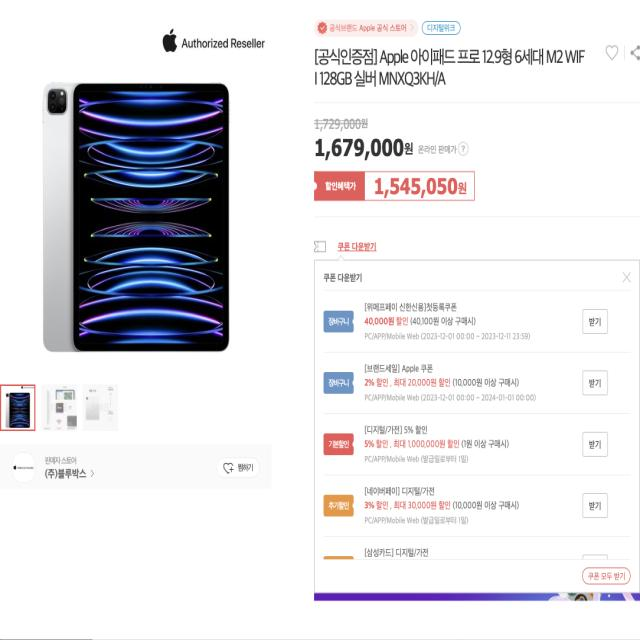product_discount_price: (372, 175, 470, 202)
product_name: (311, 46, 592, 93)
product_original_price: (309, 136, 412, 162)
